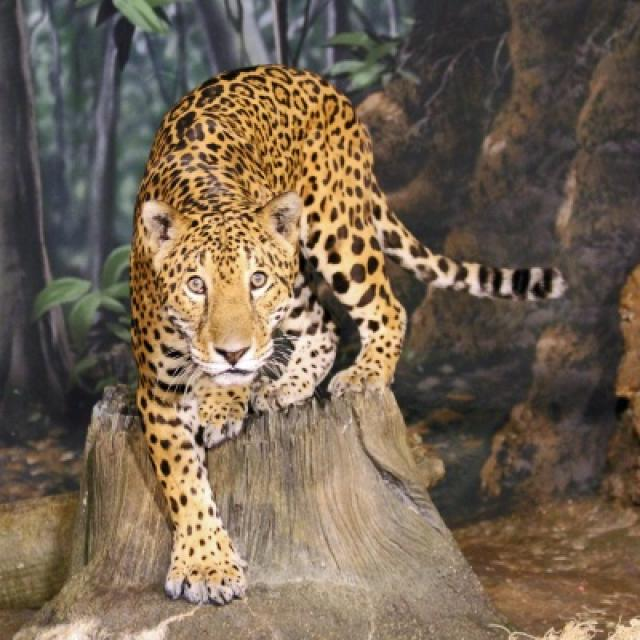Jaguar: (128, 66, 568, 611)
